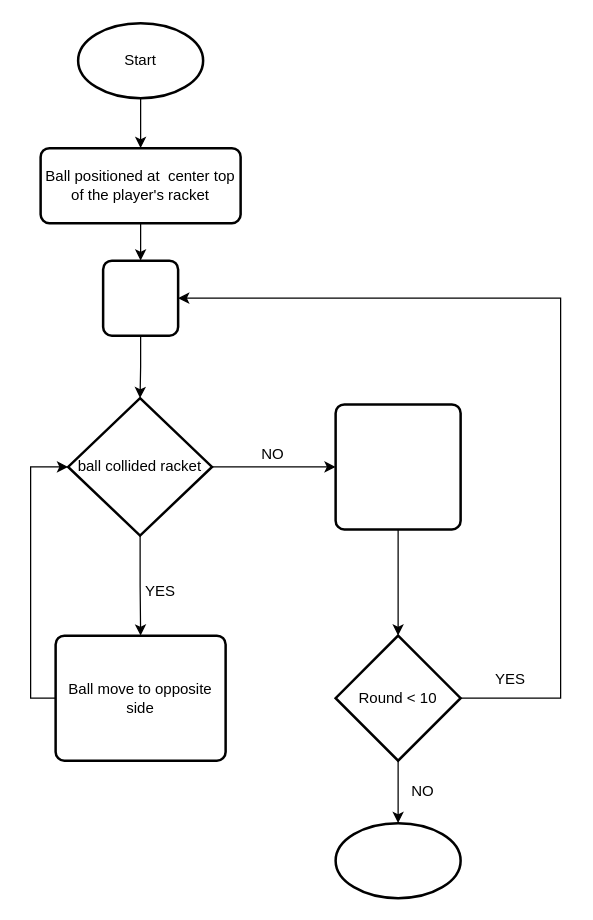
The diagram is 593 pixels wide and 920 high, and some of its shapes have lost their labels. The shapes that lost their labels are listed below. From the top down, each one's box as (x1, y1, x2, y2) in pixels, then its label:
(101, 259, 179, 336): Release Ball
(334, 402, 461, 530): Increase the score of the player who hits the ball.
(334, 821, 461, 899): End
